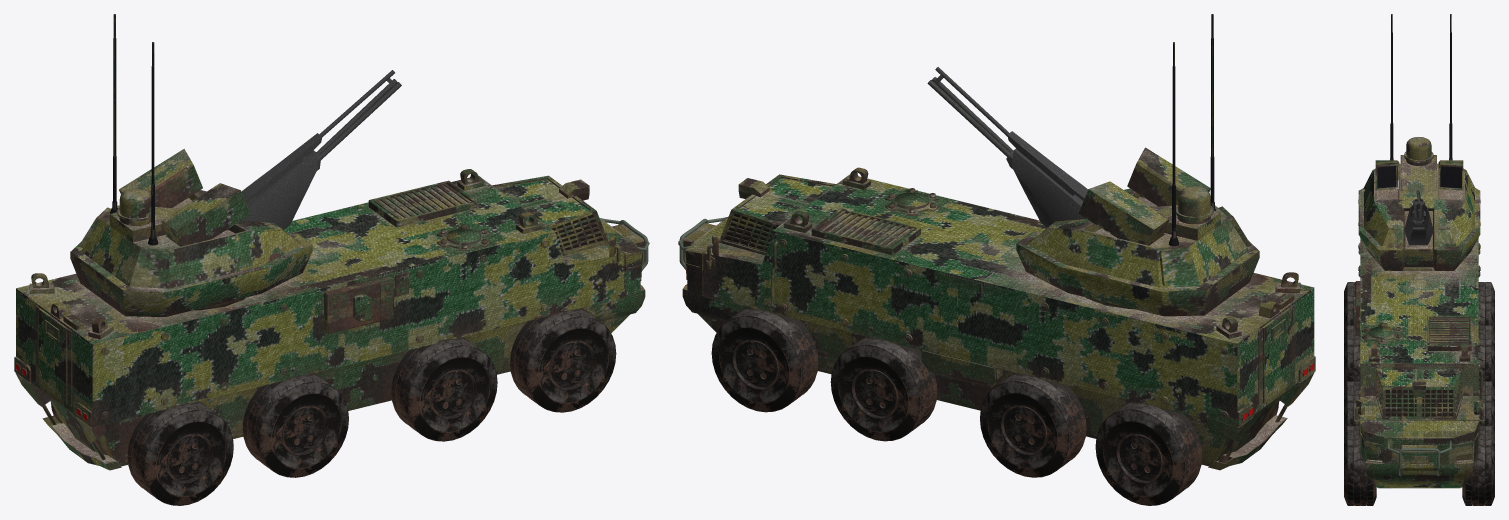
Rendered from Burc.fbx.
The picture shows the model from 3 angles, left to right: view 1: azimuth 30°, elevation 25°; view 2: azimuth 150°, elevation 25°; view 3: azimuth 270°, elevation 25°; orthographic projection. The views are drawn at different scales.
Parts seen in each view (by area): view 1: Kasa, Radar, Teker_7, Teker_3, On_Teker_1, Teker_5, Silah; view 2: Kasa, Radar, Teker_6, Teker_8, On_Teker_2, Teker_4, Silah; view 3: Kasa, Radar, On_Teker_2, On_Teker_1, Silah, Teker_6, Teker_5, Teker_8, Teker_3, Teker_4, Teker_7.
Part boxes in pixels (bbox=[...]): Kasa: bbox=[14, 169, 649, 470]; Radar: bbox=[70, 14, 312, 316]; Teker_7: bbox=[127, 401, 233, 505]; Teker_3: bbox=[391, 337, 497, 441]; On_Teker_1: bbox=[510, 308, 616, 412]; Teker_5: bbox=[242, 373, 348, 477]; Silah: bbox=[241, 70, 401, 230]; Kasa: bbox=[678, 167, 1315, 470]; Radar: bbox=[1016, 14, 1259, 316]; Teker_6: bbox=[980, 373, 1086, 477]; Teker_8: bbox=[1095, 401, 1202, 505]; On_Teker_2: bbox=[711, 307, 818, 412]; Teker_4: bbox=[830, 336, 937, 441]; Silah: bbox=[927, 67, 1087, 227]; Kasa: bbox=[1353, 200, 1484, 488]; Radar: bbox=[1358, 14, 1480, 270]; On_Teker_2: bbox=[1462, 425, 1494, 505]; On_Teker_1: bbox=[1344, 425, 1376, 505]; Silah: bbox=[1404, 190, 1433, 245]; Teker_6: bbox=[1478, 325, 1494, 389]; Teker_5: bbox=[1344, 325, 1360, 389]; Teker_8: bbox=[1478, 282, 1494, 333]; Teker_3: bbox=[1344, 381, 1360, 434]; Teker_4: bbox=[1478, 381, 1494, 434]; Teker_7: bbox=[1344, 282, 1355, 333].
Bounding box in the file's own units: 1636 × 1186 × 475.
2 materials, 2 textured.
